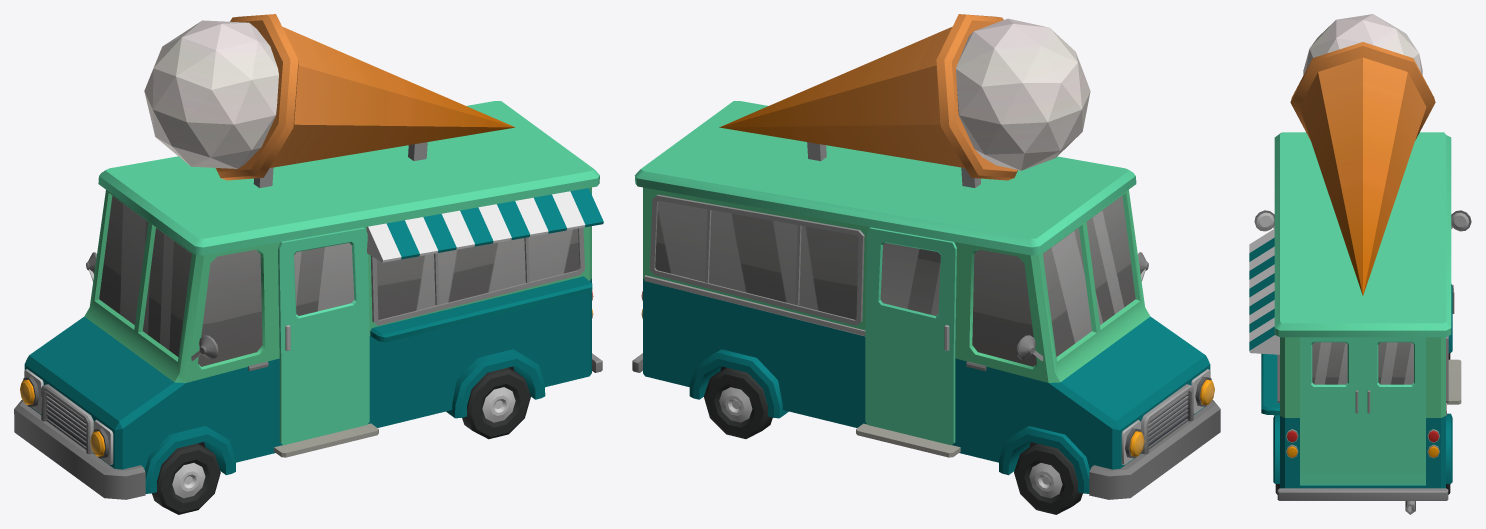
The model's file is IceTruck_2_D.fbx.
3 views of the same model, side by side, from view 1: azimuth 30°, elevation 25°; view 2: azimuth 150°, elevation 25°; view 3: azimuth 270°, elevation 25° (orthographic). The views are drawn at different scales.
Visible parts, largest first — view 1: IceTruck_2_D, RL, FL; view 2: IceTruck_2_D, FR, RR; view 3: IceTruck_2_D.
Boxes of the visible parts, <box> form: IceTruck_2_D: <box>14,14,603,499</box>; RL: <box>462,367,530,439</box>; FL: <box>152,443,220,514</box>; IceTruck_2_D: <box>632,14,1220,499</box>; FR: <box>1014,443,1082,514</box>; RR: <box>704,368,772,438</box>; IceTruck_2_D: <box>1249,14,1471,514</box>.
Size of the model in its own units: 4.16 by 3.43 by 1.84.
